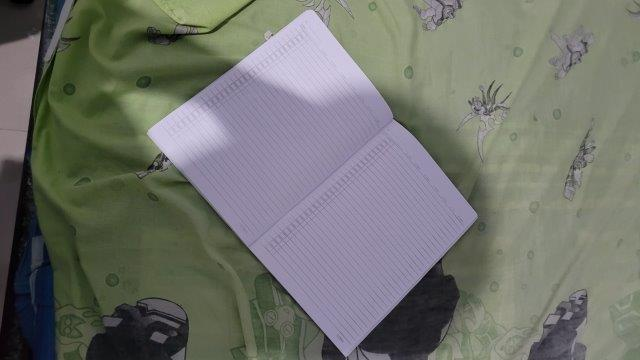kertas: (147, 8, 480, 356)
